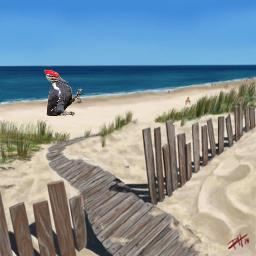Woodpecker: (45, 70, 84, 117)
